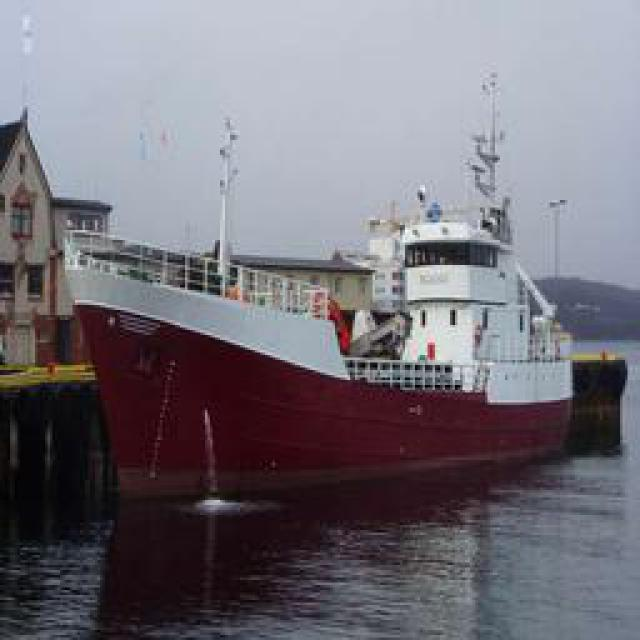Ship: (57, 77, 580, 475)
